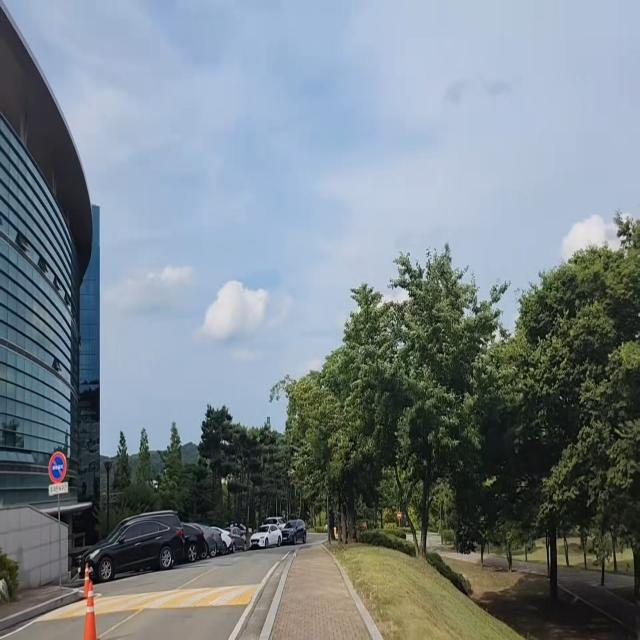obstacle: (78, 505, 308, 589), (46, 446, 70, 592), (80, 576, 102, 640)
road: (0, 548, 295, 640)
sidewalk: (260, 548, 384, 640), (0, 584, 77, 621)
